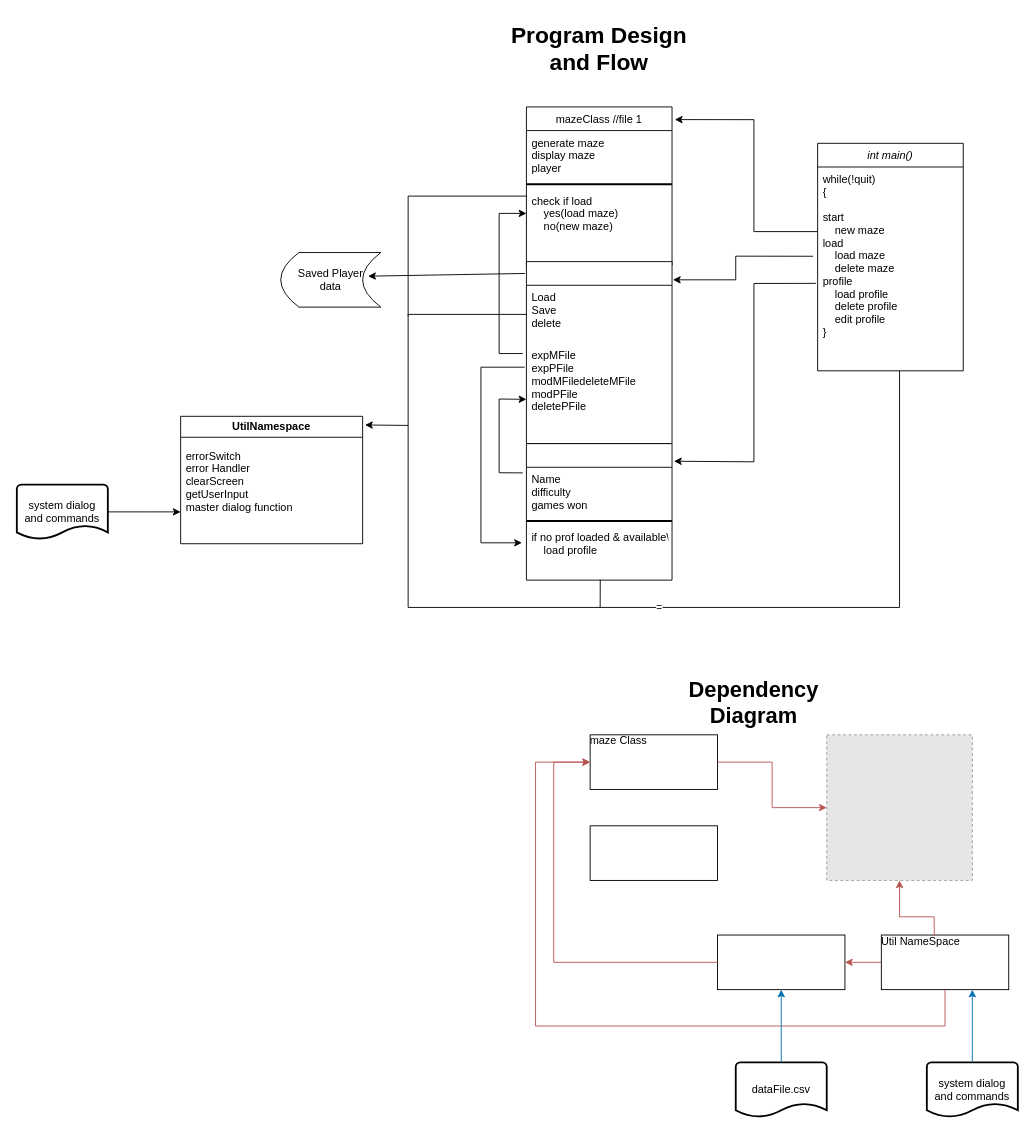
This 1034x1133 diagram has some shape labels left out. Grey dashed boxes stand in for pictures. The box of each missing label's shape, as (x1, y1, x2, y2) in pixels:
fileNamespace: (717, 934, 845, 990)
fileNamespace //file 3: (526, 261, 672, 444)
profClass //file 2: (526, 443, 672, 580)
profile Class: (589, 825, 718, 880)
